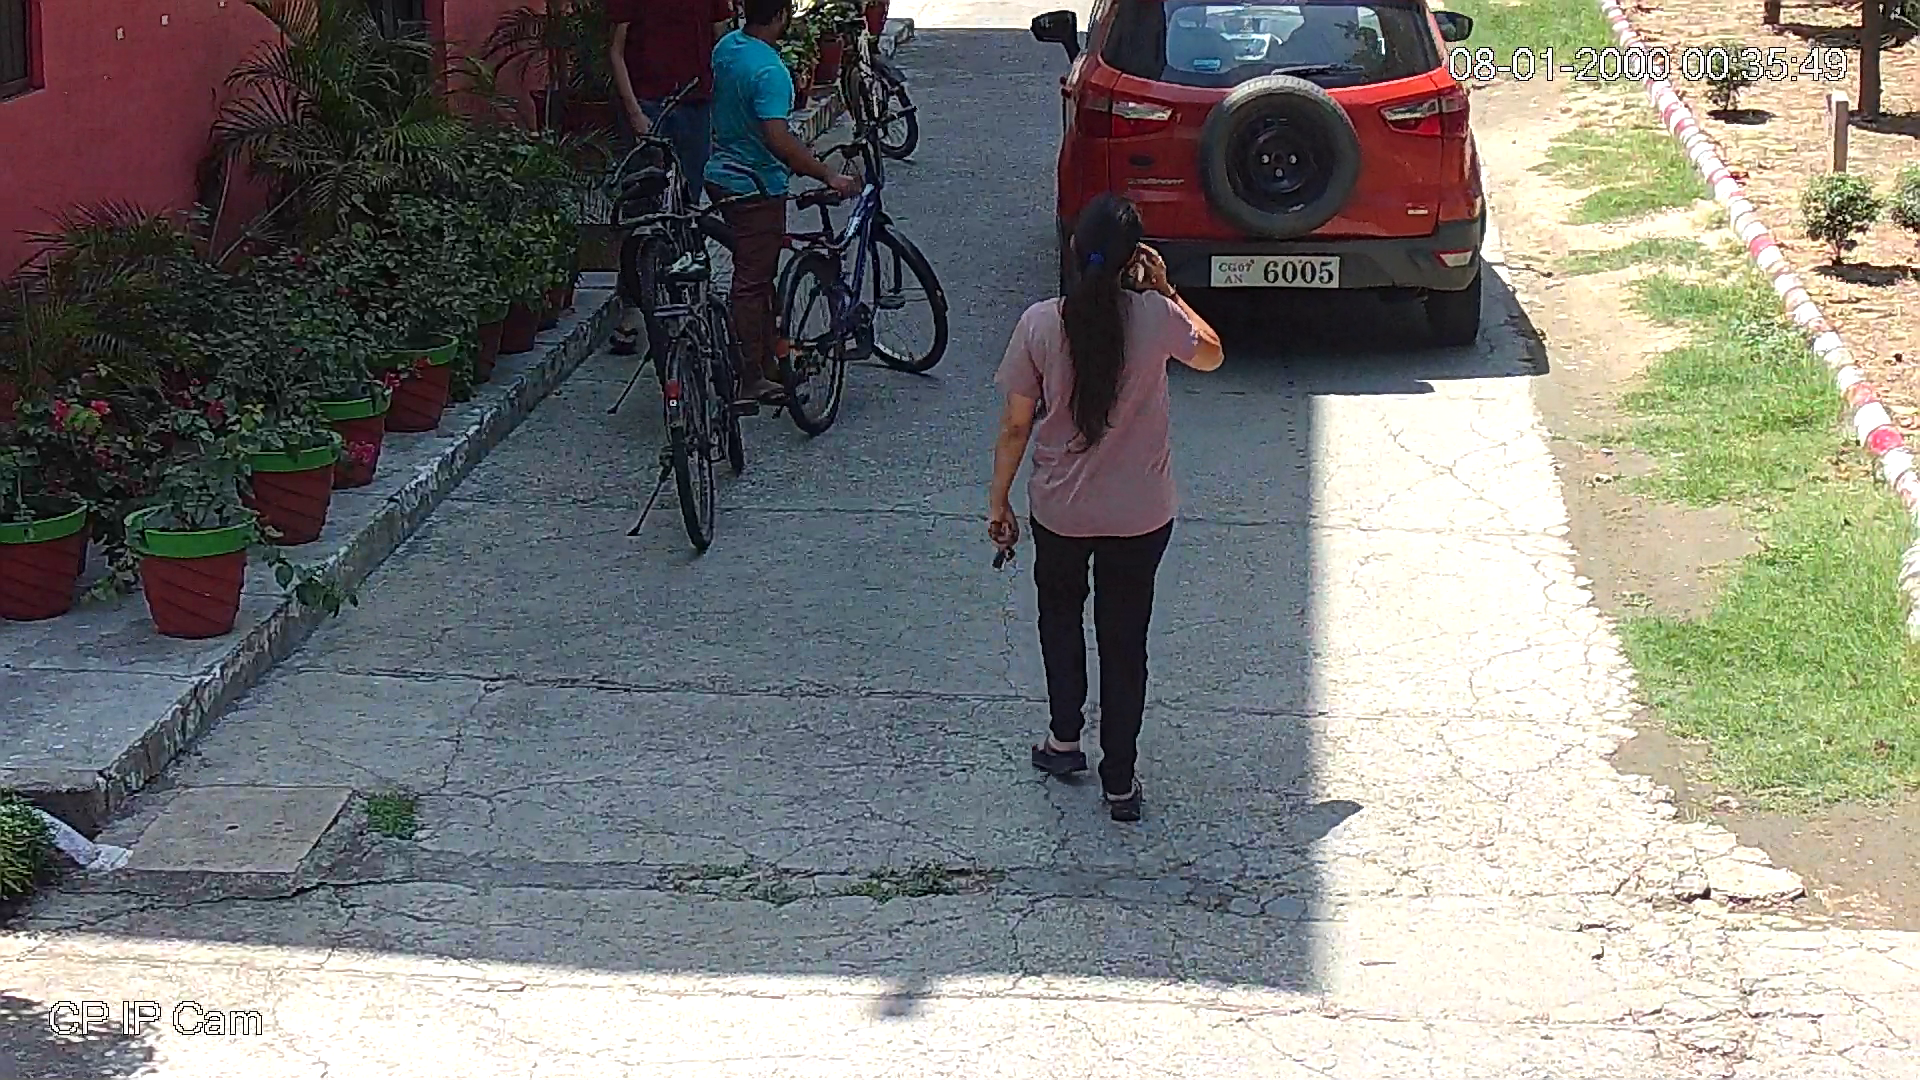plate: (1203, 248, 1350, 293)
